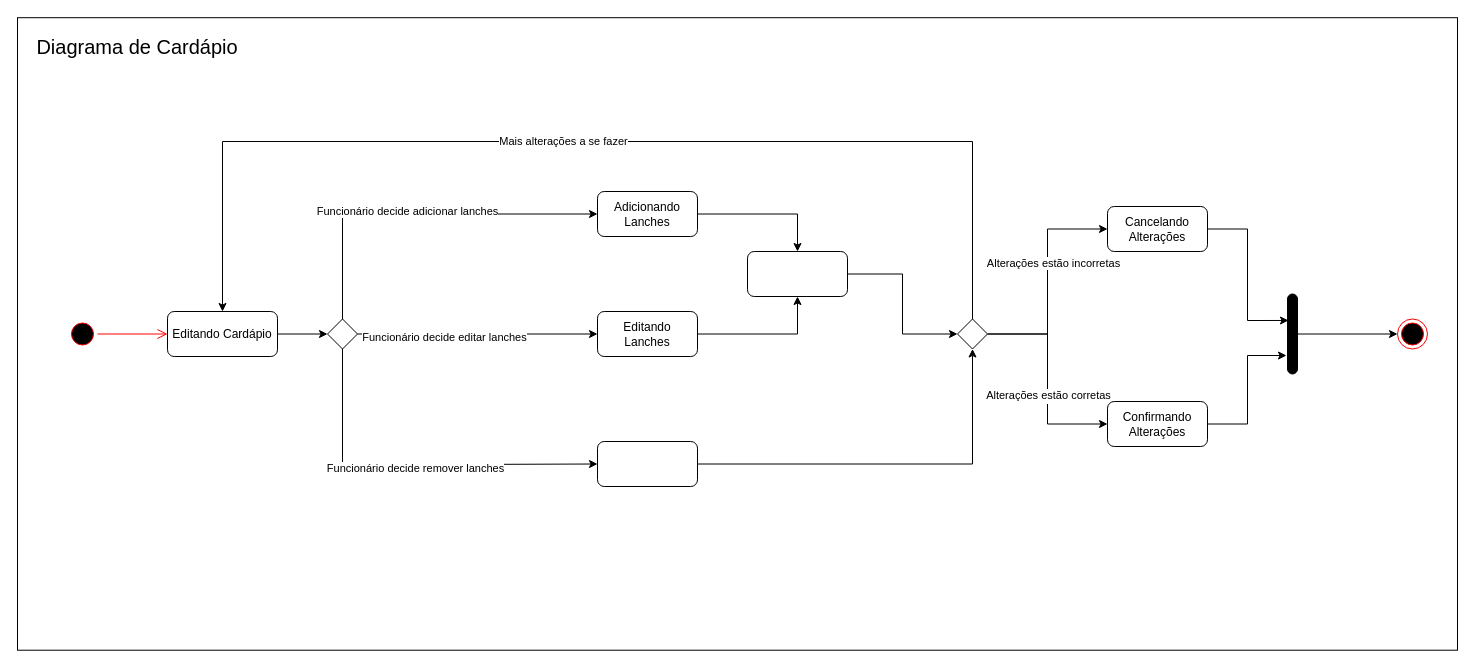
This 1475x668 diagram has some shape labels left out. The shapes that lost their labels are listed below. From the top down, each one's box as (x1, y1, x2, y2) in pixels, then its label:
(746, 250, 848, 296): Inserindo Informações do Lanche
(596, 440, 698, 486): Removendo Lanches
